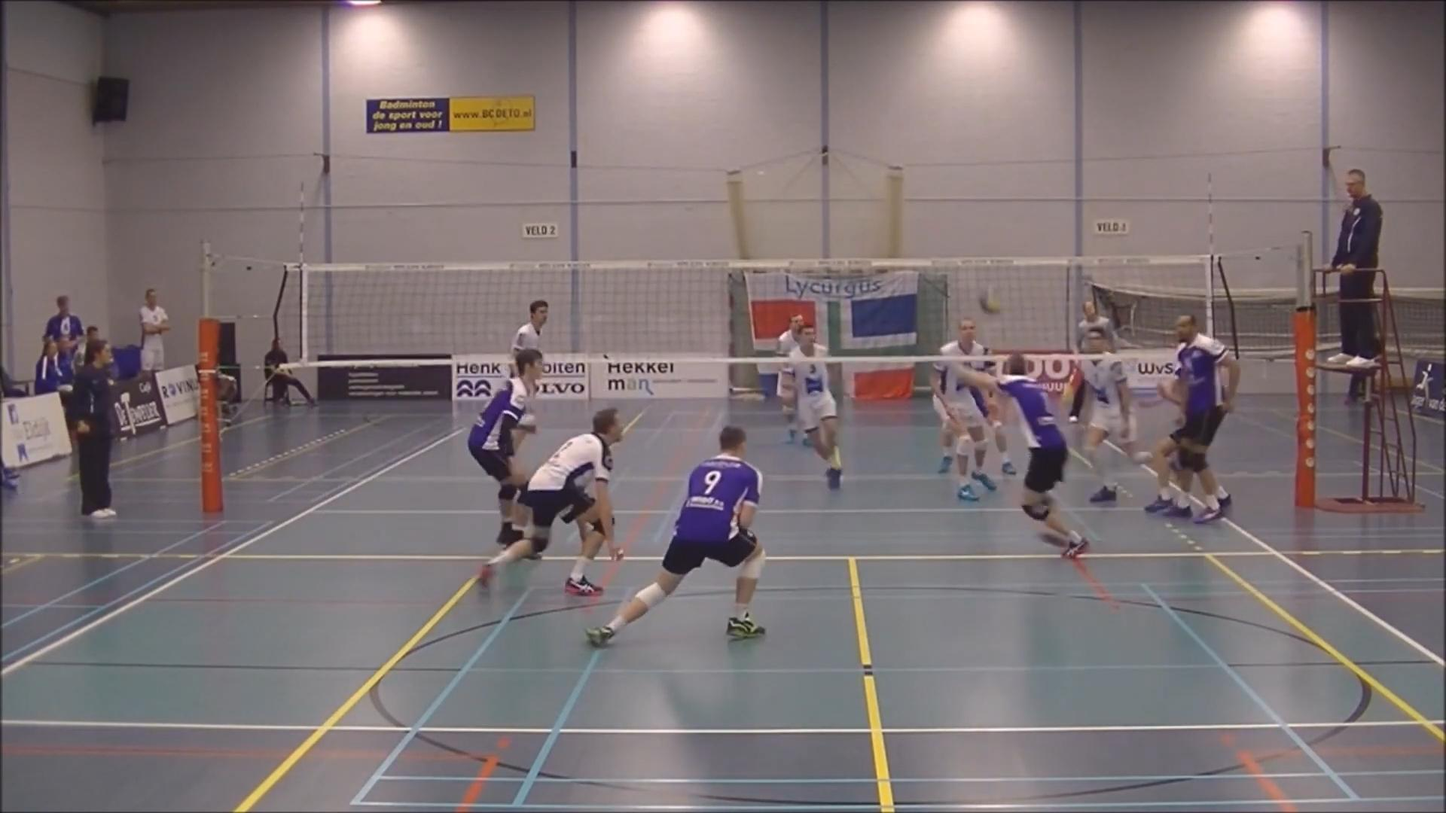difesa: (947, 350, 1091, 559)
